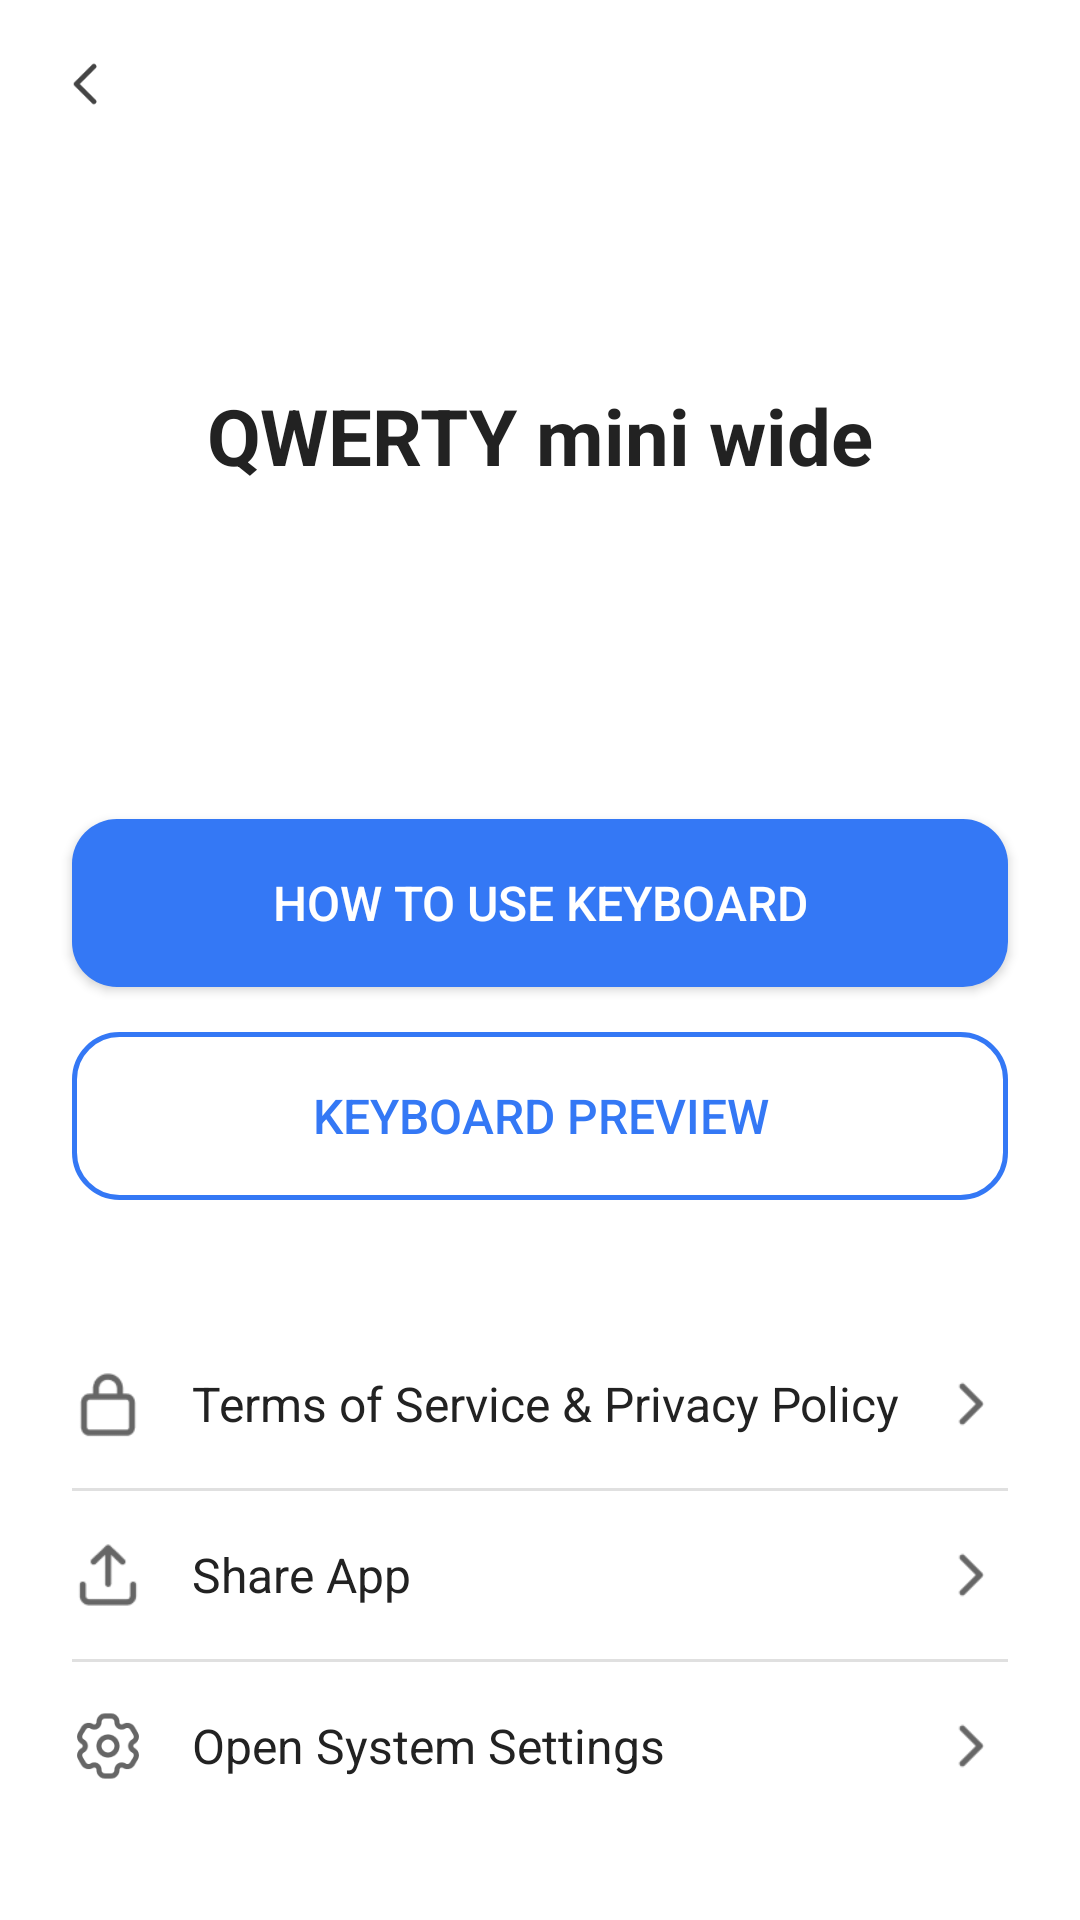

Screen size 1080*1920. Icon name, then its center in pixels as (x=x, y=y):
chevron right: (x=971, y=1404), (x=971, y=1575), (x=971, y=1746)
lock: (x=108, y=1404)
뒤로가기: (x=85, y=84)
